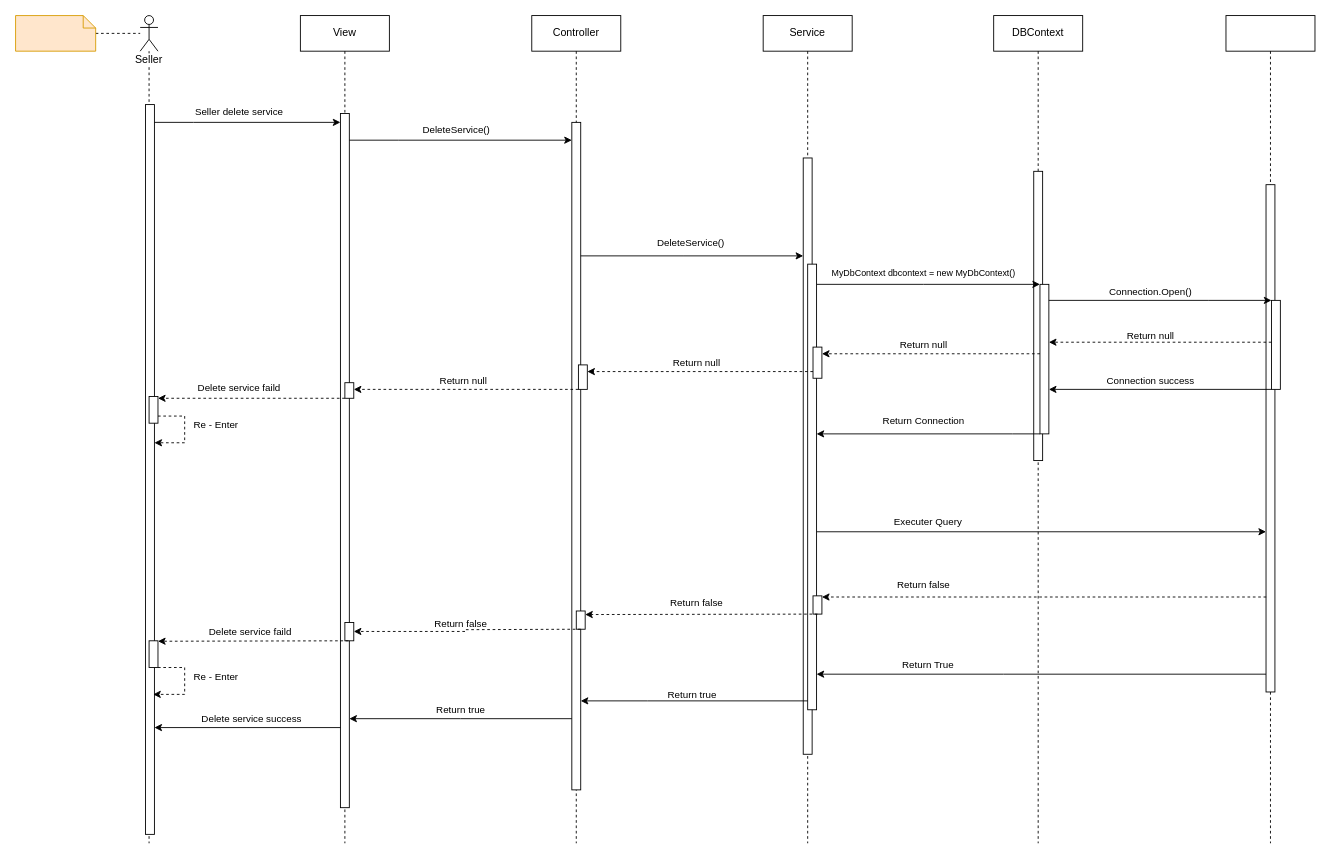
This 1331x859 diagram has some shape labels left out. Each missing label, with the box of its shape:
Database: (1225, 15, 1315, 843)
Seller login to the system: (15, 15, 96, 51)
